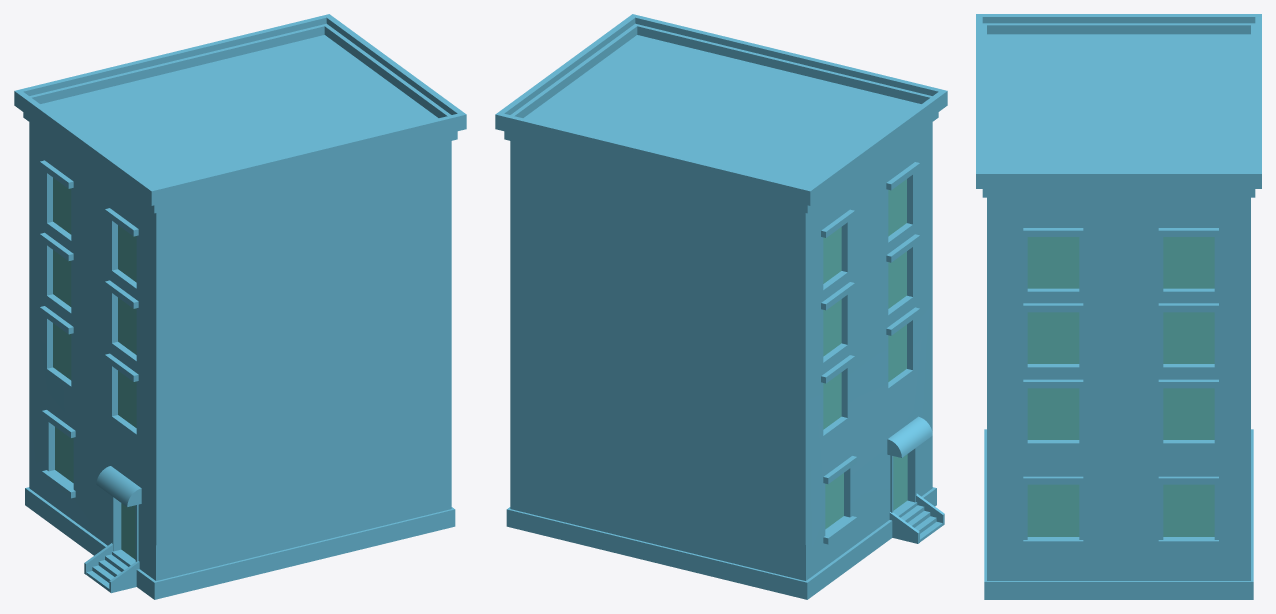
File: BG_sptp_building_12.fbx
3 renders of one model, left to right at view 1: azimuth 30°, elevation 25°; view 2: azimuth 150°, elevation 25°; view 3: azimuth 270°, elevation 25°, orthographic. The views are drawn at different scales.
Visible parts, largest first — view 1: sptp_building_12.001; view 2: sptp_building_12.001; view 3: sptp_building_12.001.
Boxes of the visible parts, x1,y1,x2,y2 form: sptp_building_12.001: (14, 14, 466, 599); sptp_building_12.001: (495, 14, 947, 599); sptp_building_12.001: (976, 14, 1261, 599).
Size of the model in its own units: 4.07 by 4.81 by 2.9.
